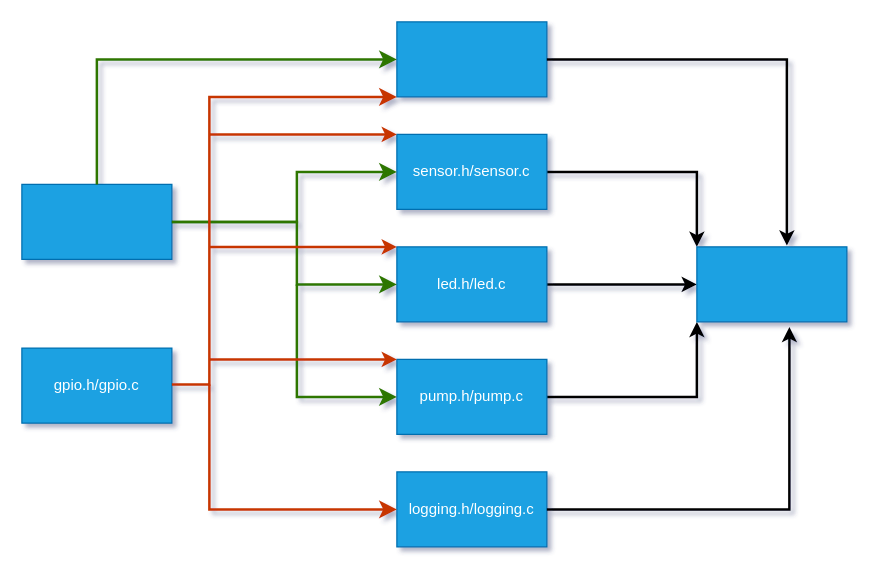
Image size: 876x576. Some labels were removed from this diagram. Here are the shapes that lost their labels. From the top down, the centre of each, then its label:
(471,59): button.h/button.c
(96,221): App/config.h
(771,284): main.c
